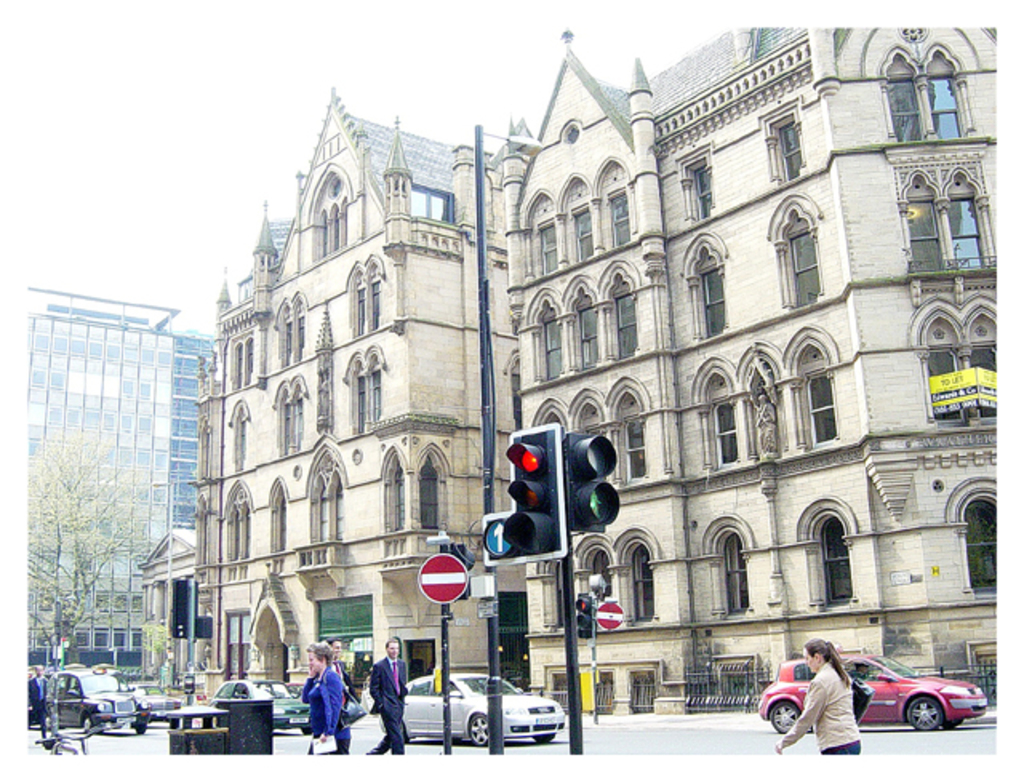Car: (748, 649, 987, 729), (395, 673, 563, 742), (214, 674, 318, 729), (49, 671, 148, 727), (134, 684, 185, 734)
